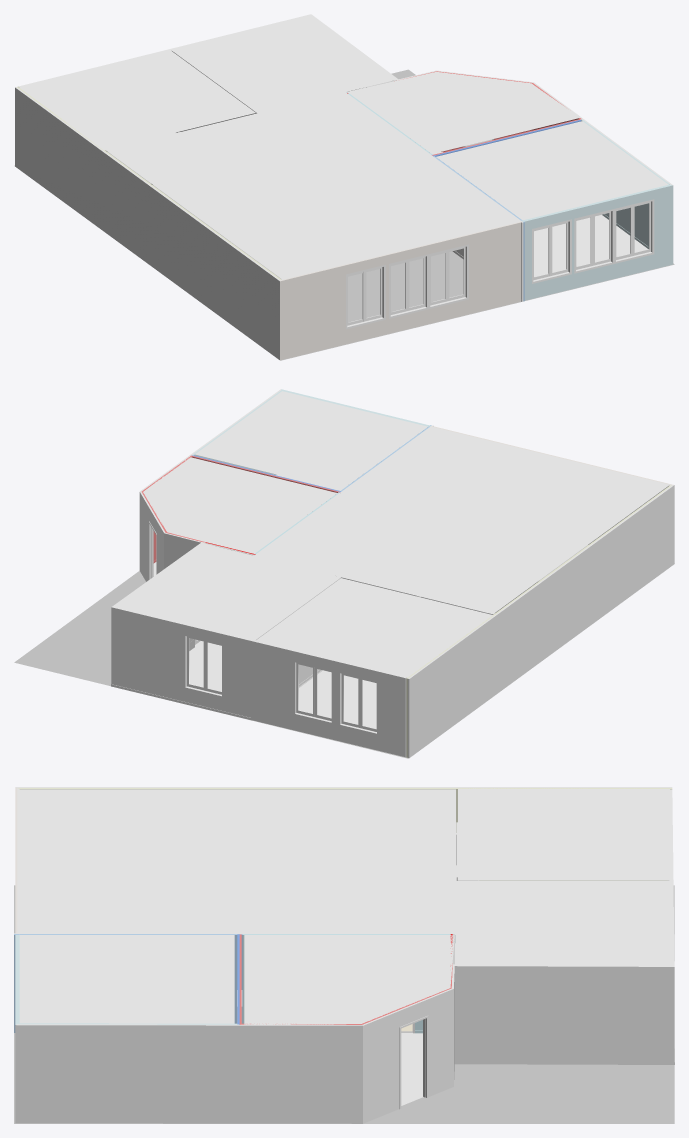
The model's file is Rörstrandsgatan.glb.
3 renders of one model, top to bottom at view 1: azimuth 30°, elevation 25°; view 2: azimuth 150°, elevation 25°; view 3: azimuth 270°, elevation 25°, orthographic. The views are drawn at different scales.
Visible parts, largest first — view 1: Rörstrandsgatan; view 2: Rörstrandsgatan; view 3: Rörstrandsgatan.
Boxes of the visible parts, x1=… form: Rörstrandsgatan: x1=14, y1=14, x2=674, y2=360; Rörstrandsgatan: x1=14, y1=389, x2=674, y2=758; Rörstrandsgatan: x1=14, y1=787, x2=674, y2=1123.
Size of the model in its own units: 13.04 by 2.5 by 15.27.
